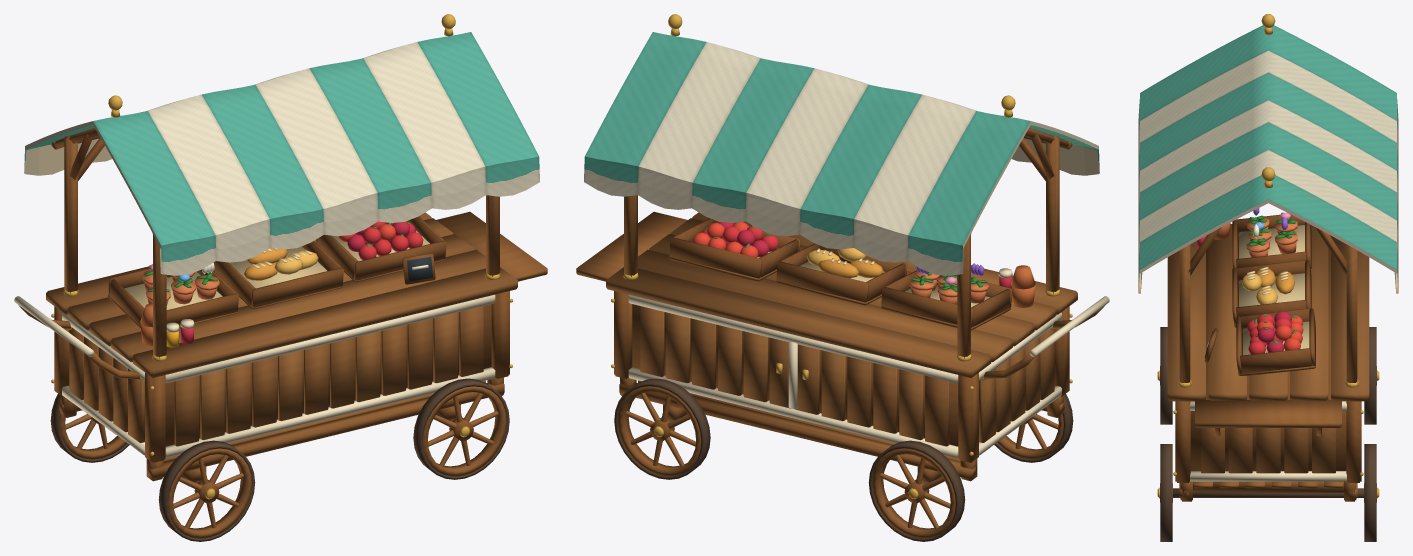
The model's file is village-cart.glb.
3 renders of one model, left to right at view 1: azimuth 30°, elevation 25°; view 2: azimuth 150°, elevation 25°; view 3: azimuth 270°, elevation 25°, orthographic. The views are drawn at different scales.
Visible parts, largest first — view 1: village-cart; view 2: village-cart; view 3: village-cart.
Part boxes in pixels (box(x1,y1,x2,y2)): village-cart: box(14, 14, 547, 541); village-cart: box(576, 14, 1109, 541); village-cart: box(1138, 14, 1398, 541).
Size of the model in its own units: 2.45 by 2.1 by 1.28.
Materials: 5 (2 with a texture image).
